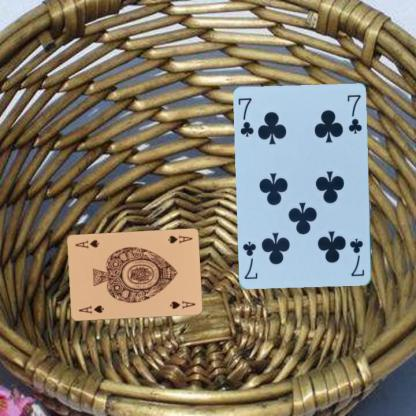7c: (236, 96, 256, 139), (347, 236, 366, 278)
As: (76, 303, 104, 315), (165, 233, 193, 245)
